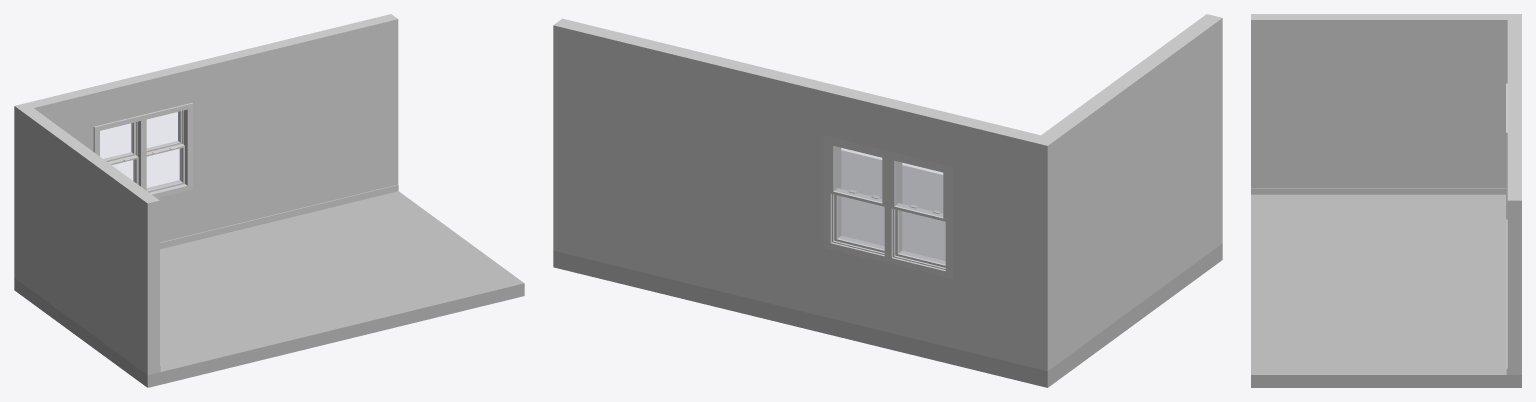
3 renders of one model, left to right at view 1: azimuth 30°, elevation 25°; view 2: azimuth 150°, elevation 25°; view 3: azimuth 270°, elevation 25°, orthographic. The views are drawn at different scales.
Size of the model in its own units: 248 by 116 by 152.
